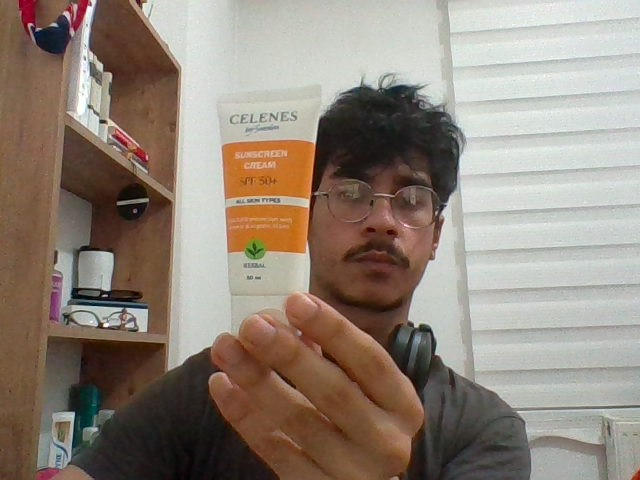CelenesSunCream: (216, 91, 318, 324)
